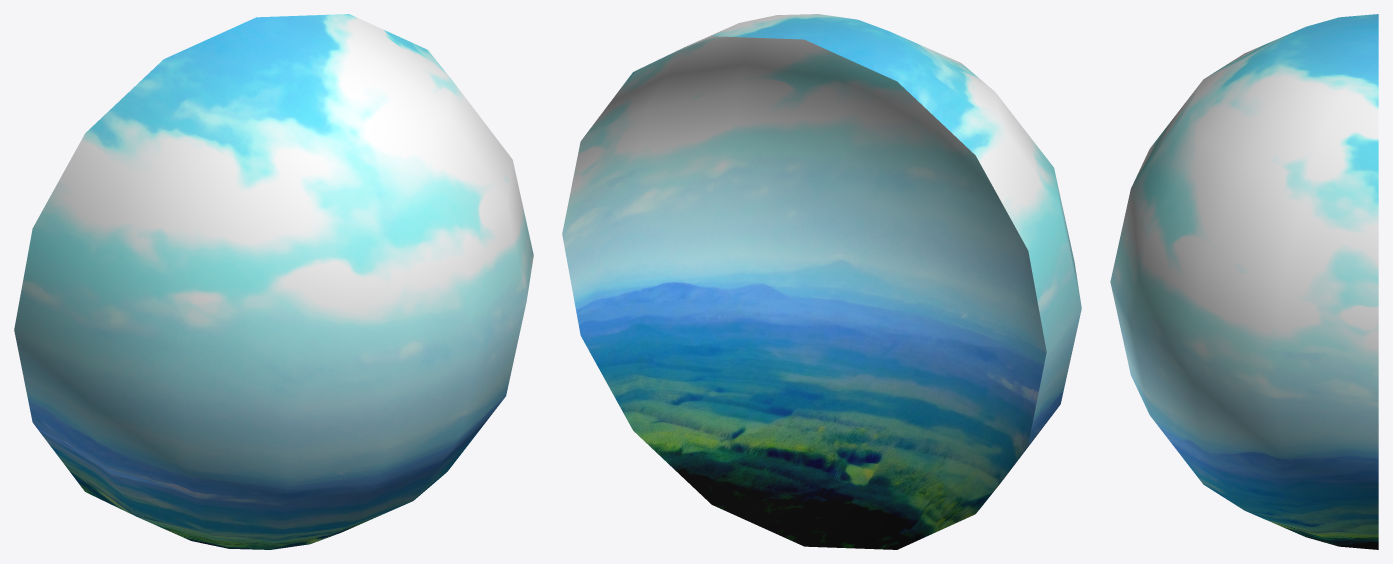
The model's file is sky.obj.
3 views of the same model, side by side, from view 1: azimuth 30°, elevation 25°; view 2: azimuth 150°, elevation 25°; view 3: azimuth 270°, elevation 25° (orthographic). The views are drawn at different scales.
Visible parts, largest first — view 1: sphere1; view 2: sphere1; view 3: sphere1.
Part boxes in pixels (<box>): sphere1: <box>14,14,533,549</box>; sphere1: <box>562,14,1081,549</box>; sphere1: <box>1110,14,1378,549</box>.
Bounding box in the file's own units: 150 × 150 × 75.09.
1 material, 1 textured.
